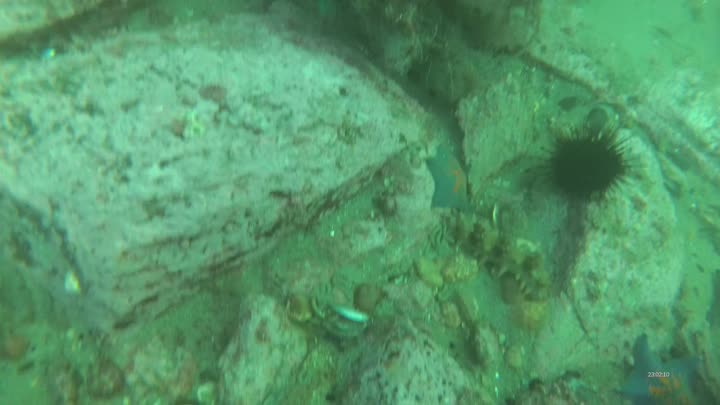echinus: (537, 120, 641, 214)
holothurian: (478, 245, 551, 305)
starfish: (621, 333, 701, 405), (425, 142, 472, 213)
